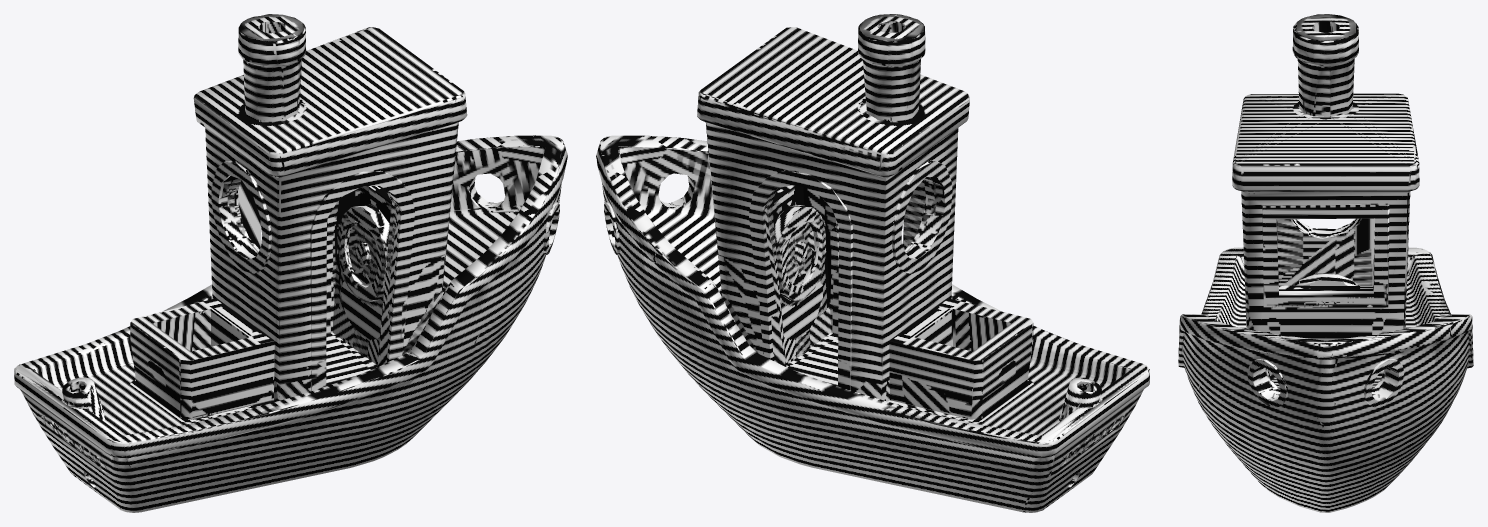
File: benchyTextured.fbx
3 views of the same model, side by side, from view 1: azimuth 30°, elevation 25°; view 2: azimuth 150°, elevation 25°; view 3: azimuth 270°, elevation 25° (orthographic).
Parts seen in each view (by area): view 1: 3DBenchy; view 2: 3DBenchy; view 3: 3DBenchy.
Part boxes in pixels (x1,y1,x2,y2): 3DBenchy: (14,14,567,512); 3DBenchy: (596,14,1149,512); 3DBenchy: (1178,14,1473,512).
Bounding box in the file's own units: 152 × 122 × 78.72.
Materials: 1 (1 with a texture image).
